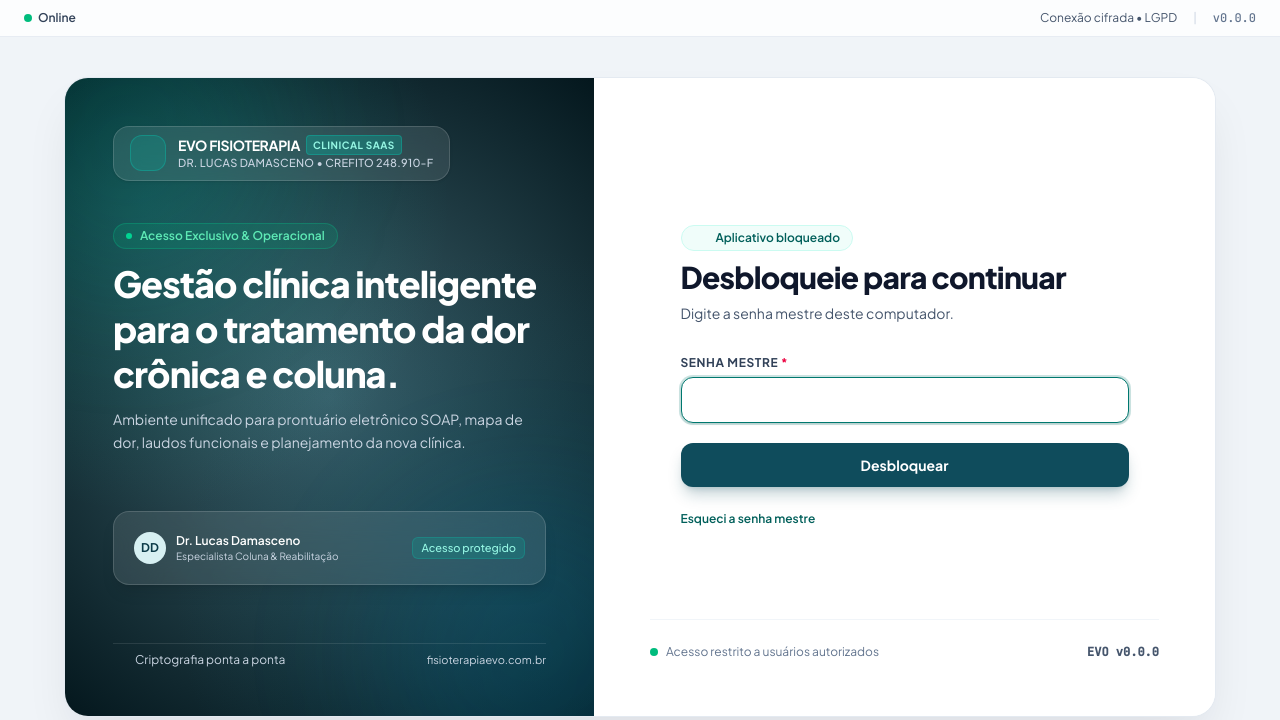
DesbloqueioTela › outro erro mostra o banner
Type "x" into the password field labelled "Senha mestre *" at (904, 400), box [680,376,1128,422]
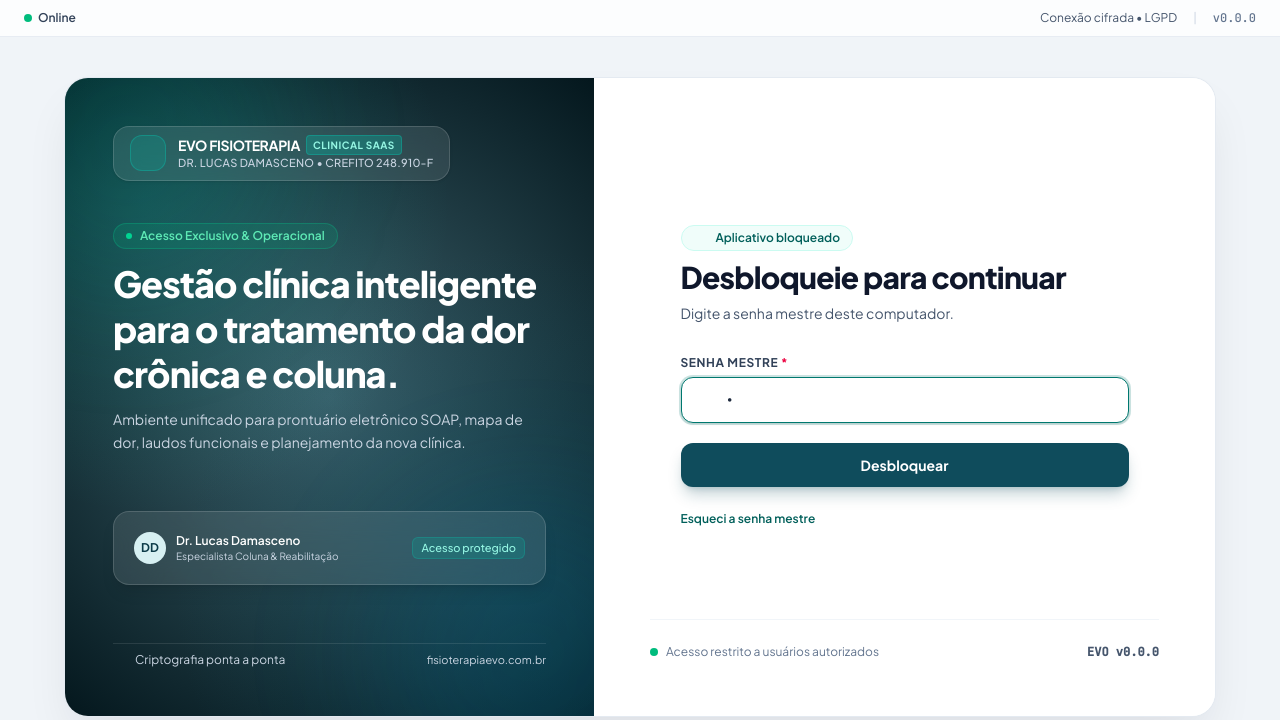
Click the button "Desbloquear" at (904, 464), box [680,442,1128,486]
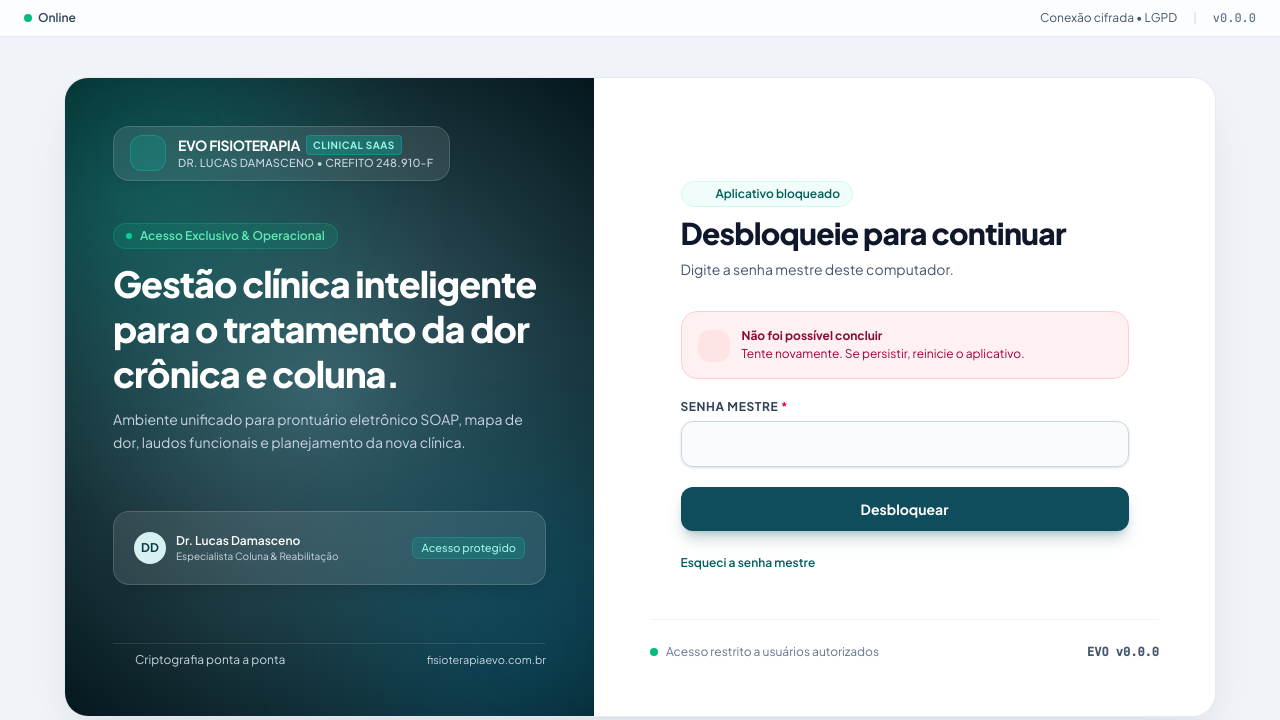
expect the message that starts with "Não foi possível concluir" is shown: met, box [742,328,882,342]
